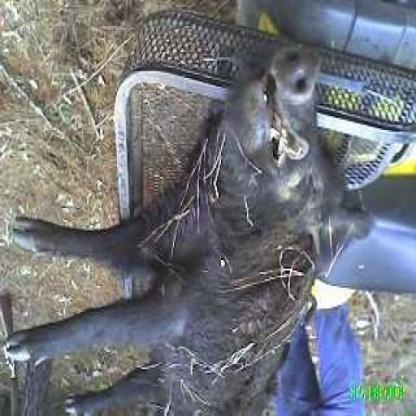boar: (15, 47, 397, 411)
